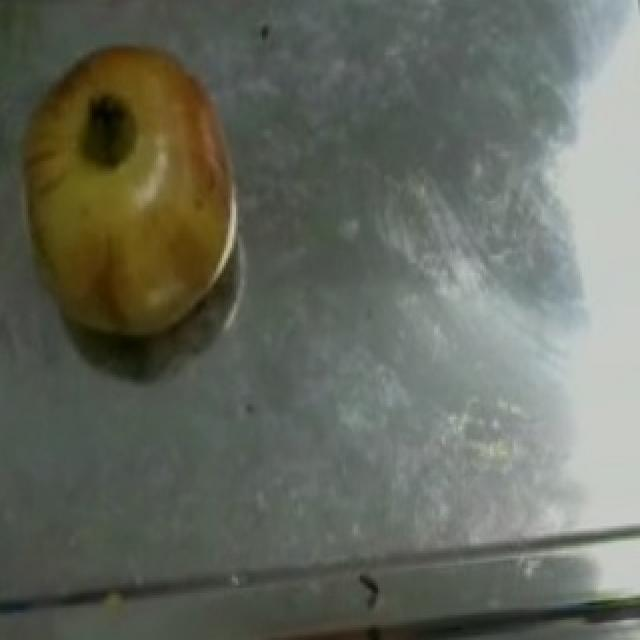fruit: (0, 2, 272, 256)
